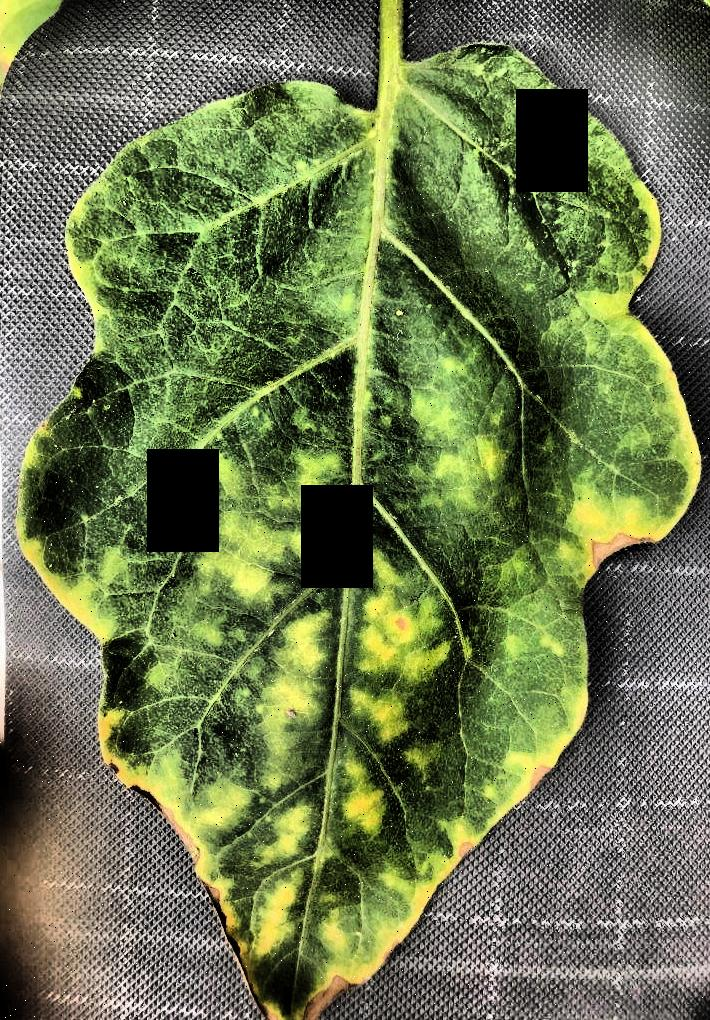Non-critical Stress: (1, 0, 710, 1020)
